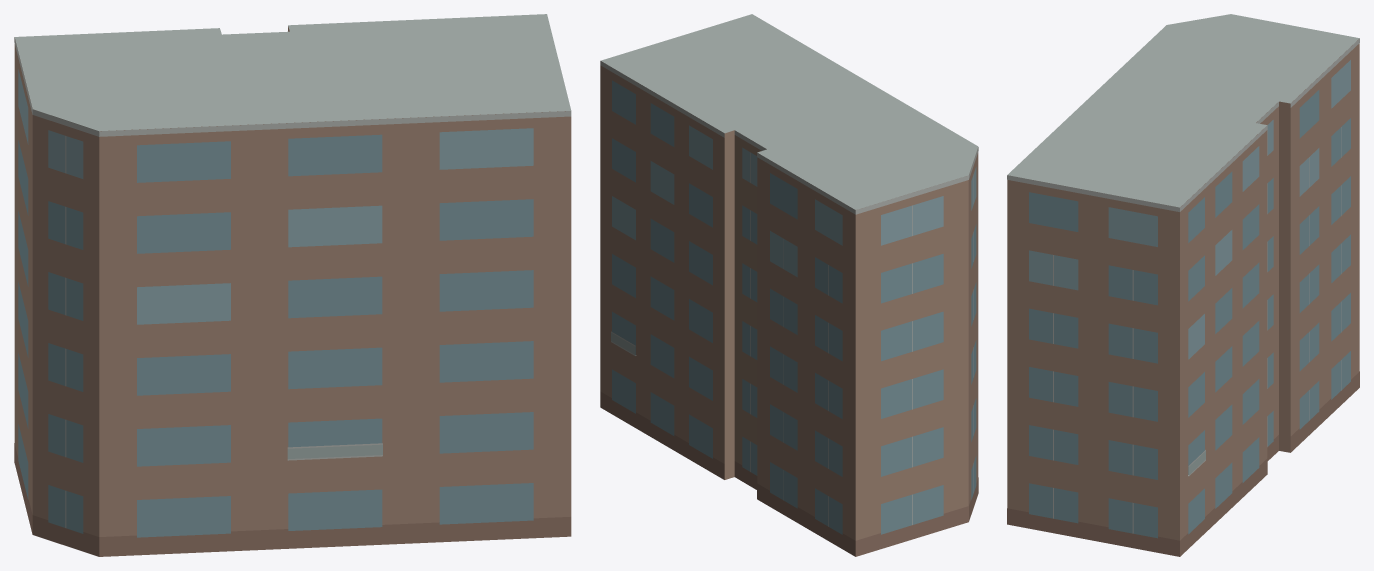
The model's file is survey-upis-32968224.glb.
The picture shows the model from 3 angles, left to right: view 1: azimuth 30°, elevation 25°; view 2: azimuth 150°, elevation 25°; view 3: azimuth 270°, elevation 25°; orthographic projection. The views are drawn at different scales.
Visible parts, largest first — view 1: survey-upis-32968224.tmp; view 2: survey-upis-32968224.tmp; view 3: survey-upis-32968224.tmp.
Boxes of the visible parts, x1,y1,x2,y2 form: survey-upis-32968224.tmp: [14, 14, 571, 556]; survey-upis-32968224.tmp: [600, 14, 978, 556]; survey-upis-32968224.tmp: [1007, 14, 1359, 556].
Bounding box in the file's own units: 21.75 × 18.3 × 16.75.
